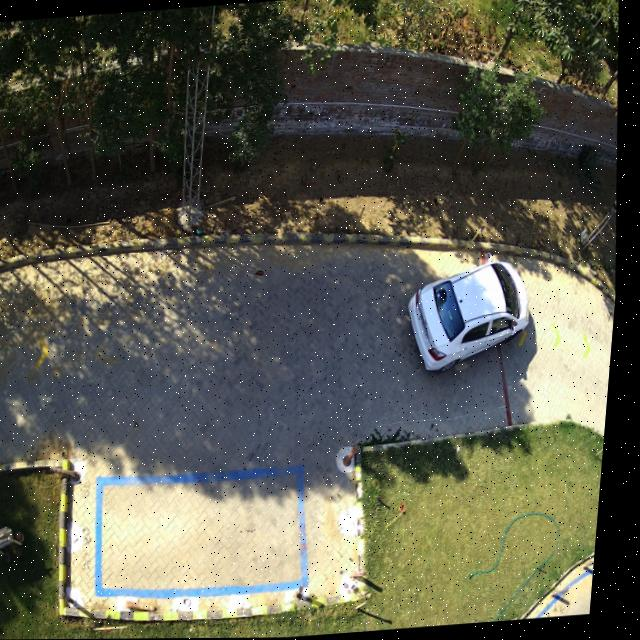car: (412, 260, 534, 374)
